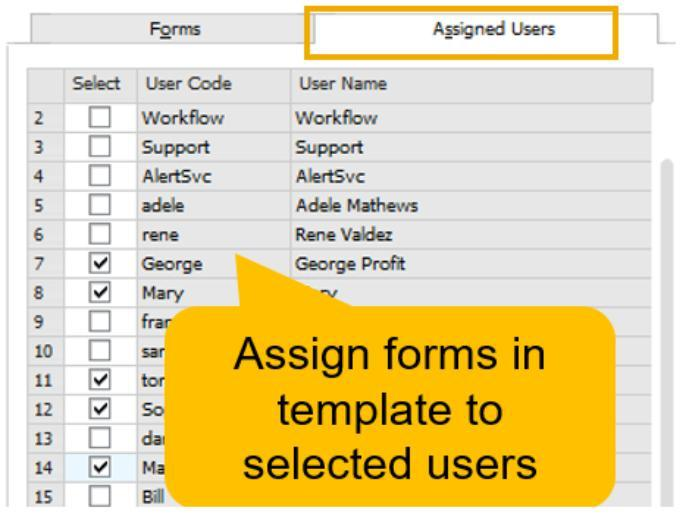button: (316, 15, 659, 45), (32, 14, 316, 44)
checkbox: (89, 398, 113, 421), (89, 428, 113, 450), (89, 136, 112, 158), (90, 194, 112, 217), (90, 369, 112, 392), (90, 107, 112, 129), (90, 253, 112, 275), (90, 282, 112, 304), (90, 311, 112, 333), (90, 340, 112, 362), (90, 457, 112, 479), (90, 486, 112, 507), (90, 166, 111, 187), (90, 224, 111, 245)
label: (298, 197, 423, 219), (296, 254, 409, 274), (139, 107, 228, 129), (299, 74, 391, 95), (296, 226, 395, 245), (146, 74, 238, 94), (293, 108, 382, 128), (139, 138, 214, 160), (295, 139, 368, 159), (296, 167, 372, 186), (140, 168, 214, 186), (142, 256, 206, 275), (73, 74, 126, 95), (141, 282, 189, 304), (140, 198, 188, 216), (143, 229, 181, 246)
